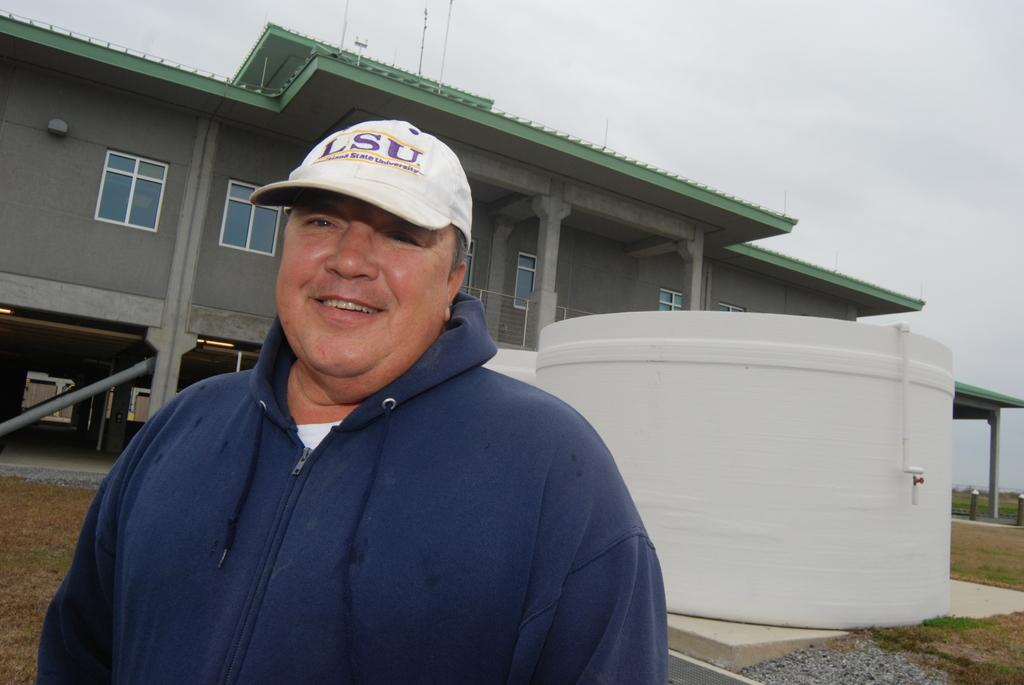Hat: (246, 116, 471, 252)
